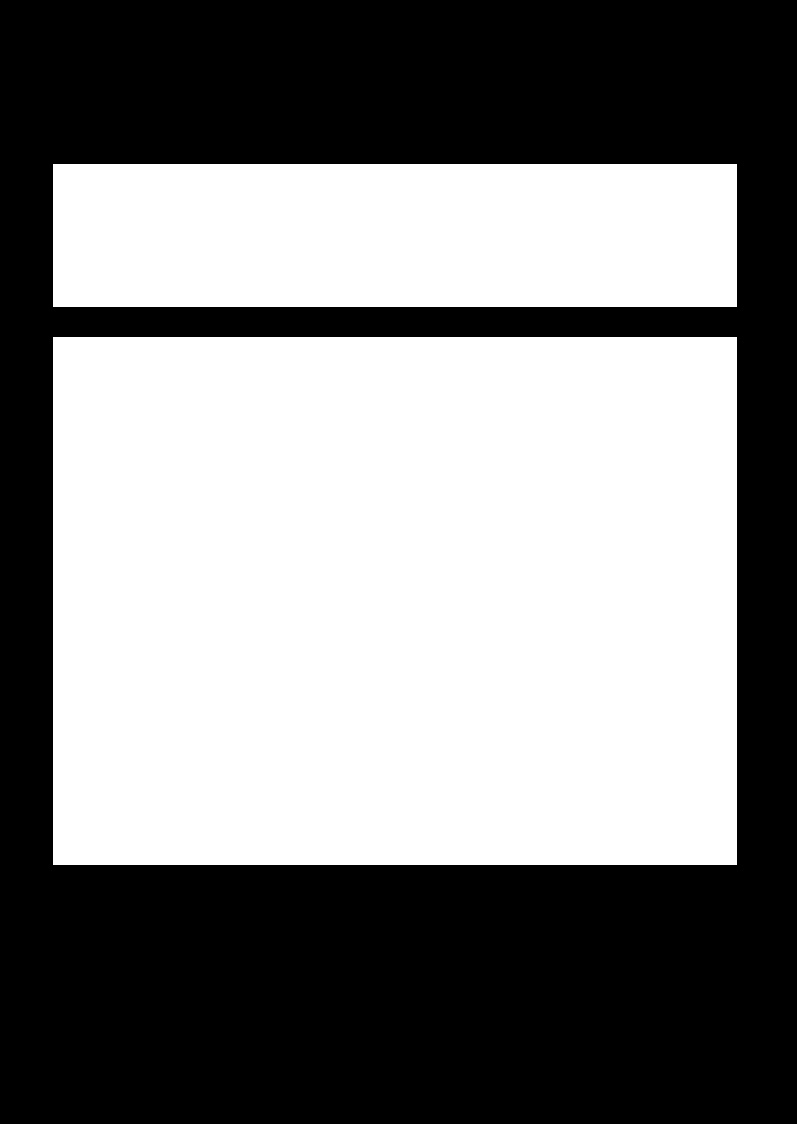table: (53, 337, 736, 864), (53, 164, 736, 306)
